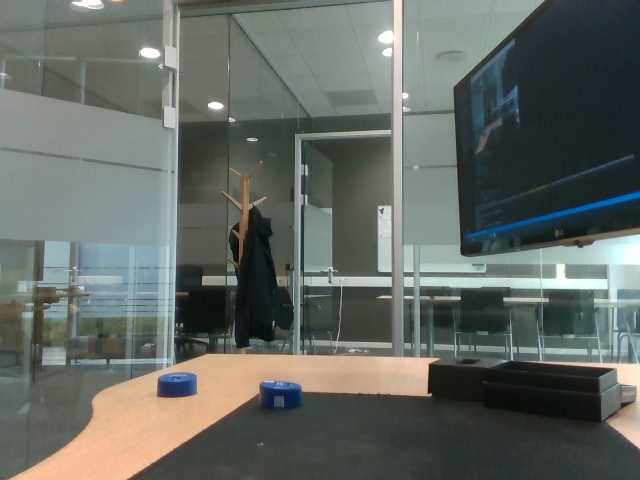alfa: (152, 368, 202, 401), (256, 377, 306, 409)
